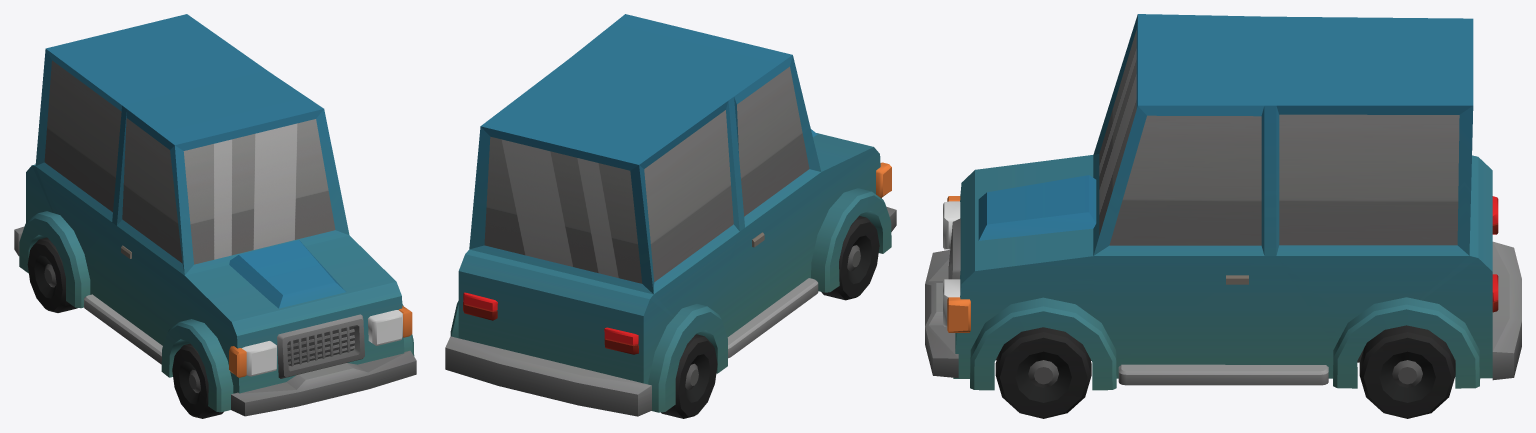
File: Car_5_9.fbx
3 views of the same model, side by side, from view 1: azimuth 30°, elevation 25°; view 2: azimuth 150°, elevation 25°; view 3: azimuth 270°, elevation 25° (orthographic). The views are drawn at different scales.
Parts seen in each view (by area): view 1: Car_5_9, W_br, W_fr; view 2: Car_5_9, W_br, W_fr; view 3: Car_5_9, W_bl, W_fl.
Boxes of the visible parts, x1,y1,x2,y2 form: Car_5_9: [14, 14, 416, 416]; W_br: [27, 237, 77, 312]; W_fr: [172, 343, 223, 418]; Car_5_9: [445, 14, 896, 416]; W_br: [661, 334, 717, 418]; W_fr: [821, 216, 879, 300]; Car_5_9: [925, 14, 1521, 390]; W_bl: [1359, 325, 1455, 418]; W_fl: [995, 327, 1091, 418].
Bounding box in the file's own units: 113 × 130 × 233.
